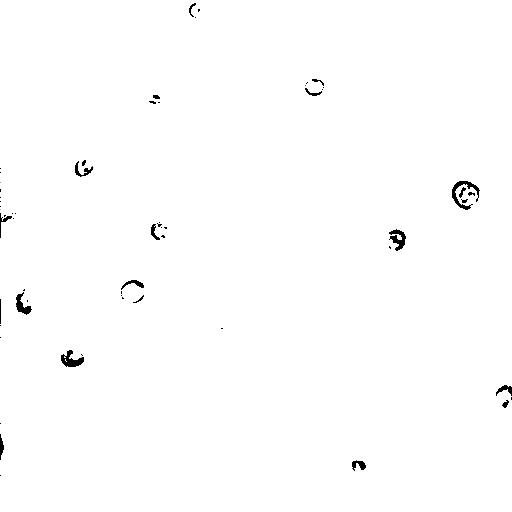micro-algae: (200, 193, 287, 279), (81, 256, 150, 324), (335, 0, 395, 63), (201, 358, 247, 405), (1, 288, 44, 331), (452, 181, 481, 211), (13, 285, 41, 315), (119, 277, 147, 303), (383, 228, 411, 253), (491, 379, 512, 412), (0, 213, 25, 239), (57, 347, 85, 367), (148, 221, 170, 241), (304, 77, 325, 97), (74, 157, 95, 177), (188, 0, 210, 19), (347, 456, 367, 474), (0, 429, 9, 460)
